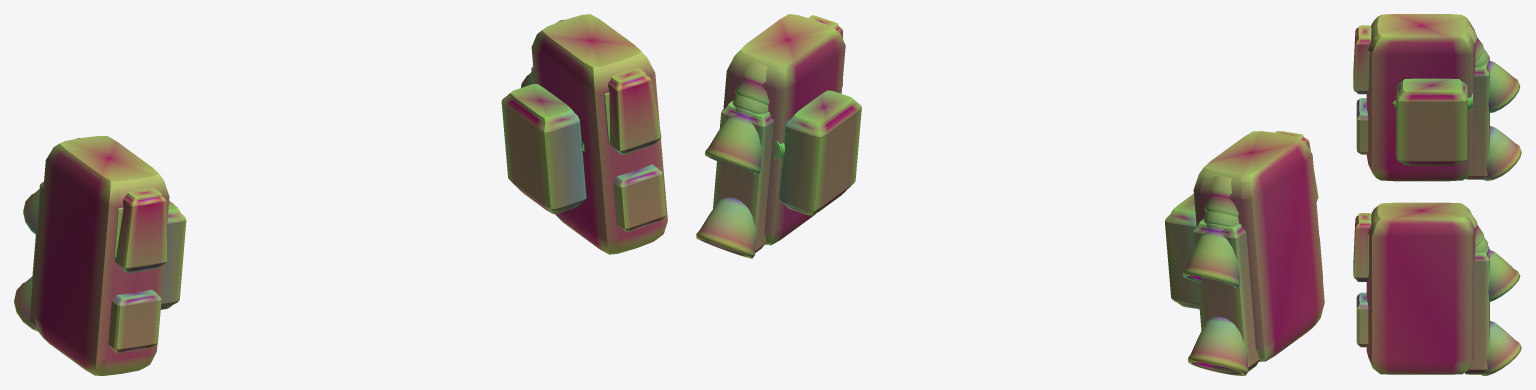
File: llm_gen_leg_thrusters_083_72e60a.glb
The picture shows the model from 3 angles, left to right: view 1: azimuth 30°, elevation 25°; view 2: azimuth 150°, elevation 25°; view 3: azimuth 270°, elevation 25°; orthographic projection. The views are drawn at different scales.
Visible parts, largest first — view 1: outer_shin_armor_0_wing_white_l, outer_shin_armor_0_wing_white_r, adapter_calf_clamp_r, knee_guard_blade_2_psycho_emerald_l, knee_guard_blade_2_psycho_emerald_r, lower_shin_bumper_4_psycho_emerald_l, lower_shin_bumper_4_psycho_emerald_r, adapter_calf_clamp_l, rear_thruster_manifold_dark_5_adapter_dark_l, rear_surge_bell_bot_7_vernier_bell_vernier_l; view 2: outer_shin_armor_0_wing_white_l, outer_shin_armor_0_wing_white_r, adapter_calf_clamp_r, rear_thruster_manifold_dark_5_adapter_dark_l, rear_thruster_manifold_dark_5_adapter_dark_r, adapter_calf_clamp_l, rear_surge_bell_bot_7_vernier_bell_vernier_l, rear_surge_bell_bot_7_vernier_bell_vernier_r, rear_surge_bell_top_6_vernier_bell_vernier_r, rear_surge_bell_top_6_vernier_bell_vernier_l, rear_surge_bell_top_6_vernier_bell_gimbal_collar_dark_r, rear_surge_bell_top_6_vernier_bell_gimbal_collar_dark_l; view 3: outer_shin_armor_0_wing_white_r, outer_shin_armor_0_wing_white_l, adapter_calf_clamp_l, rear_thruster_manifold_dark_5_adapter_dark_r, rear_thruster_manifold_dark_5_adapter_dark_l, rear_surge_bell_bot_7_vernier_bell_vernier_l, rear_surge_bell_bot_7_vernier_bell_vernier_r, rear_surge_bell_top_6_vernier_bell_vernier_l, rear_surge_bell_top_6_vernier_bell_vernier_r, knee_guard_blade_2_psycho_emerald_l, knee_guard_blade_2_psycho_emerald_r, lower_shin_bumper_4_psycho_emerald_l (+3 smaller).
Boxes of the visible parts, x1,y1,x2,y2 form: outer_shin_armor_0_wing_white_l: (33, 136, 169, 375); outer_shin_armor_0_wing_white_r: (531, 14, 667, 254); adapter_calf_clamp_r: (501, 84, 586, 213); knee_guard_blade_2_psycho_emerald_l: (115, 188, 166, 272); knee_guard_blade_2_psycho_emerald_r: (608, 68, 661, 154); lower_shin_bumper_4_psycho_emerald_l: (108, 289, 161, 353); lower_shin_bumper_4_psycho_emerald_r: (613, 164, 666, 231); adapter_calf_clamp_l: (160, 201, 186, 309); rear_thruster_manifold_dark_5_adapter_dark_l: (29, 181, 43, 331); rear_surge_bell_bot_7_vernier_bell_vernier_l: (14, 276, 36, 330); outer_shin_armor_0_wing_white_l: (1193, 131, 1324, 361); outer_shin_armor_0_wing_white_r: (723, 14, 845, 245); adapter_calf_clamp_r: (779, 90, 861, 215); rear_thruster_manifold_dark_5_adapter_dark_l: (1193, 219, 1260, 372); rear_thruster_manifold_dark_5_adapter_dark_r: (713, 100, 773, 252); adapter_calf_clamp_l: (1165, 193, 1199, 309); rear_surge_bell_bot_7_vernier_bell_vernier_l: (1188, 316, 1248, 375); rear_surge_bell_bot_7_vernier_bell_vernier_r: (696, 197, 756, 258); rear_surge_bell_top_6_vernier_bell_vernier_r: (705, 106, 761, 174); rear_surge_bell_top_6_vernier_bell_vernier_l: (1182, 223, 1239, 288); rear_surge_bell_top_6_vernier_bell_gimbal_collar_dark_r: (735, 61, 769, 105); rear_surge_bell_top_6_vernier_bell_gimbal_collar_dark_l: (1204, 176, 1238, 216); outer_shin_armor_0_wing_white_r: (1366, 202, 1475, 374); outer_shin_armor_0_wing_white_l: (1366, 14, 1475, 181); adapter_calf_clamp_l: (1396, 78, 1467, 165); rear_thruster_manifold_dark_5_adapter_dark_r: (1465, 247, 1489, 374); rear_thruster_manifold_dark_5_adapter_dark_l: (1465, 54, 1489, 179); rear_surge_bell_bot_7_vernier_bell_vernier_l: (1483, 126, 1521, 180); rear_surge_bell_bot_7_vernier_bell_vernier_r: (1481, 321, 1521, 375); rear_surge_bell_top_6_vernier_bell_vernier_l: (1484, 57, 1520, 113); rear_surge_bell_top_6_vernier_bell_vernier_r: (1485, 246, 1520, 301); knee_guard_blade_2_psycho_emerald_l: (1353, 25, 1371, 94); knee_guard_blade_2_psycho_emerald_r: (1353, 213, 1371, 281); lower_shin_bumper_4_psycho_emerald_l: (1356, 98, 1368, 154).
Bounding box in the file's own units: 80.15 × 26.84 × 25.87.
